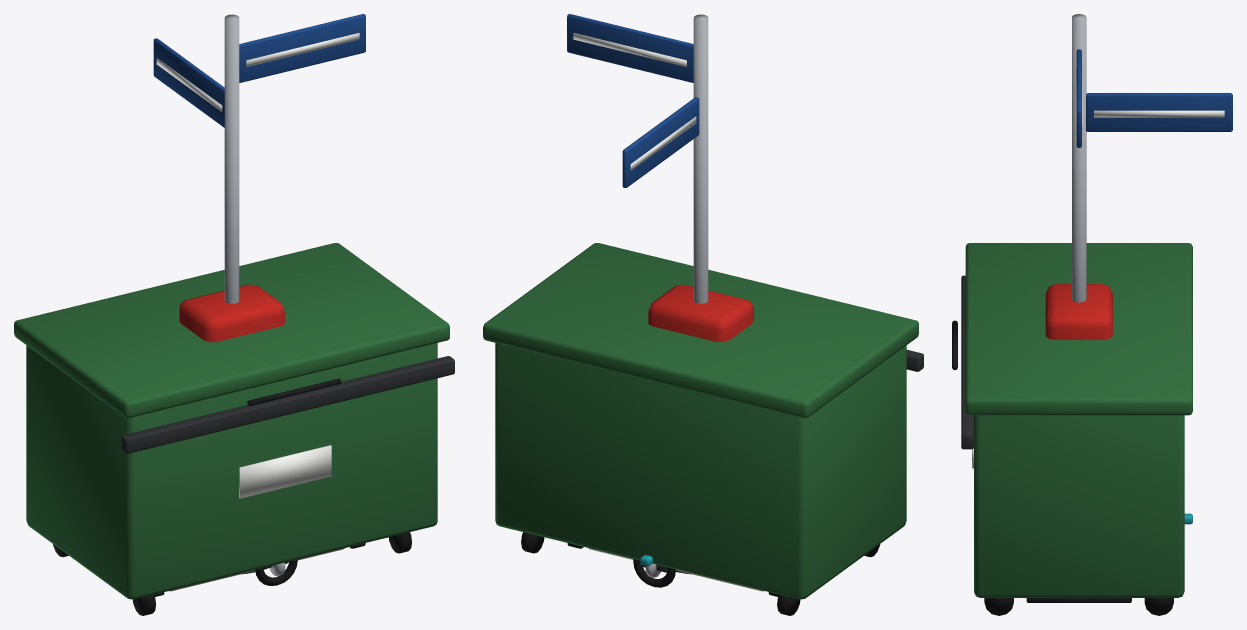
The model's file is props.glb.
3 renders of one model, left to right at view 1: azimuth 30°, elevation 25°; view 2: azimuth 150°, elevation 25°; view 3: azimuth 270°, elevation 25°, orthographic.
Parts seen in each view (by area): view 1: Dumpster, SignPost, MailBox, Scooter; view 2: Dumpster, SignPost, MailBox, Scooter; view 3: Dumpster, SignPost, MailBox, Barrier, Scooter.
Part boxes in pixels (x1,y1,x2,y2): Dumpster: (14,243,454,615); SignPost: (153,14,365,303); MailBox: (179,284,284,342); Scooter: (247,378,341,585); Dumpster: (483,243,923,615); SignPost: (567,14,708,303); MailBox: (648,284,753,342); Scooter: (633,555,675,587); Dumpster: (961,243,1192,615); SignPost: (1072,14,1232,302); MailBox: (1045,284,1112,339); Barrier: (1026,598,1131,602); Scooter: (952,320,1192,524).
Size of the model in its own units: 1.8 by 2.8 by 1.33.
Materials: 1 (1 with a texture image).
